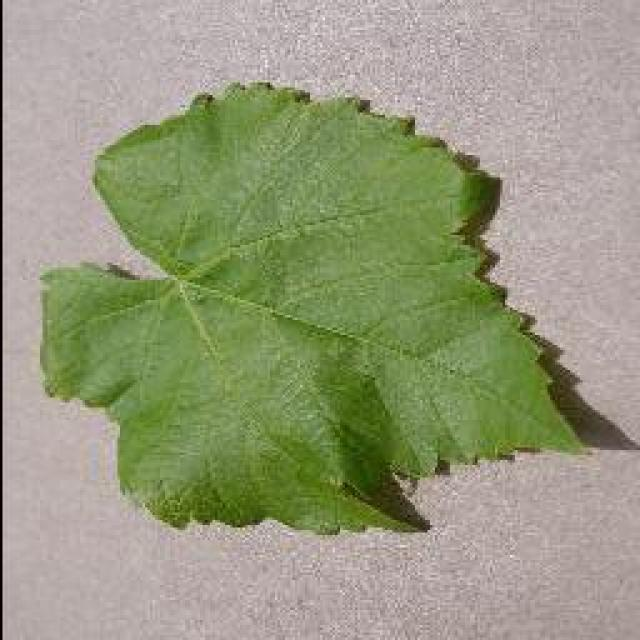Grape___healthy: (35, 74, 599, 542)
